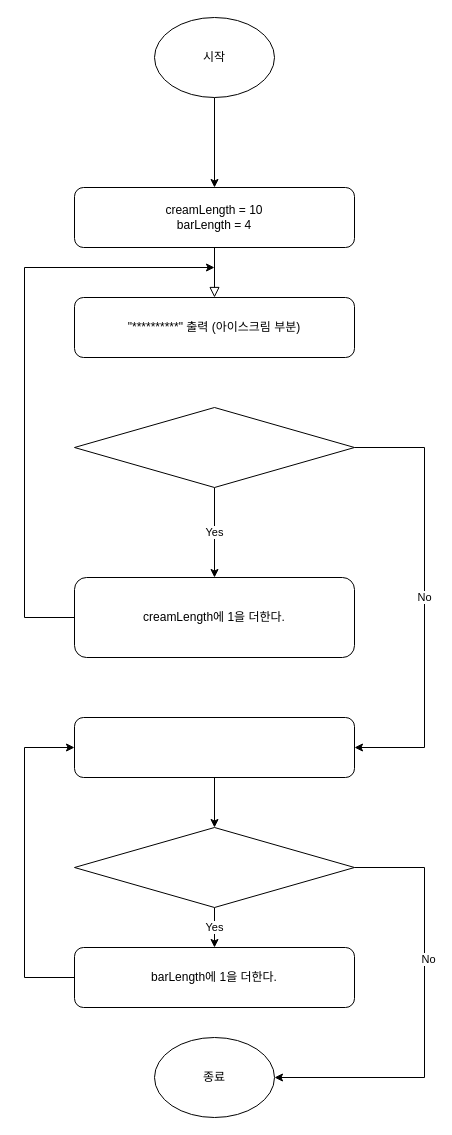
This 452x1135 diagram has some shape labels left out. Here are the shapes that lost their labels. From the top down, the box of each, then its label:
(74, 406, 354, 488): creamLength가 10보다 작은가?
(74, 716, 354, 778): " | | " 출력 (막대기 부분)
(74, 826, 354, 908): barLength가 4보다 작은가?
